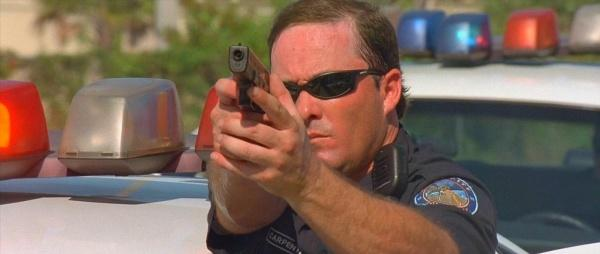Gun: (227, 44, 271, 113)
